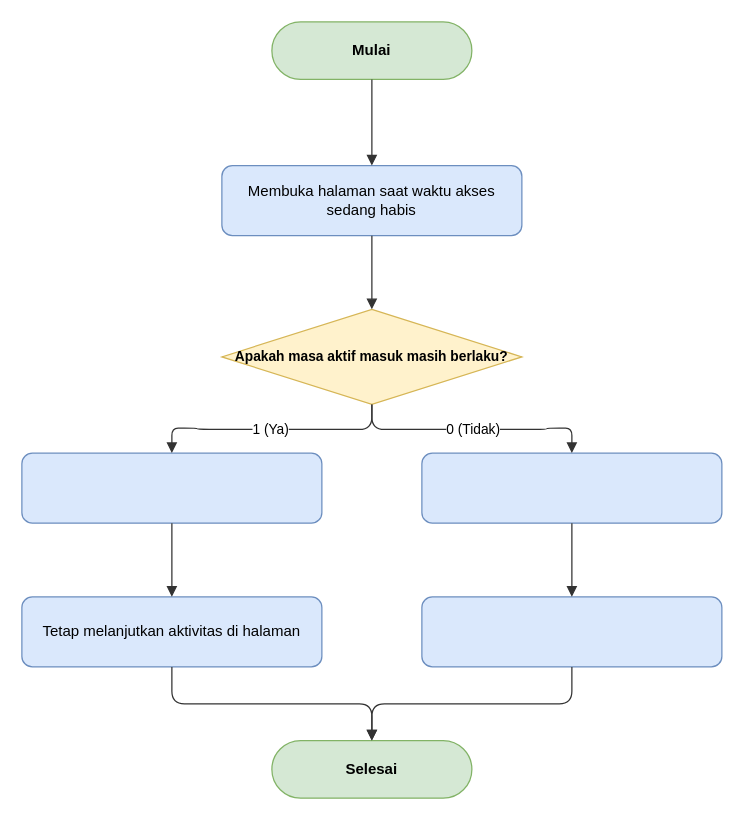
This 744x820 diagram has some shape labels left out. The shapes that lost their labels are listed below. From the top down, each one's box as (x1, y1, x2, y2) in pixels, then its label:
(21, 452, 322, 523): Perpanjang akses masuk secara otomatis
(421, 452, 722, 523): Tampilkan pesan sesi telah berakhir
(421, 596, 722, 667): Diarahkan kembali ke halaman masuk
